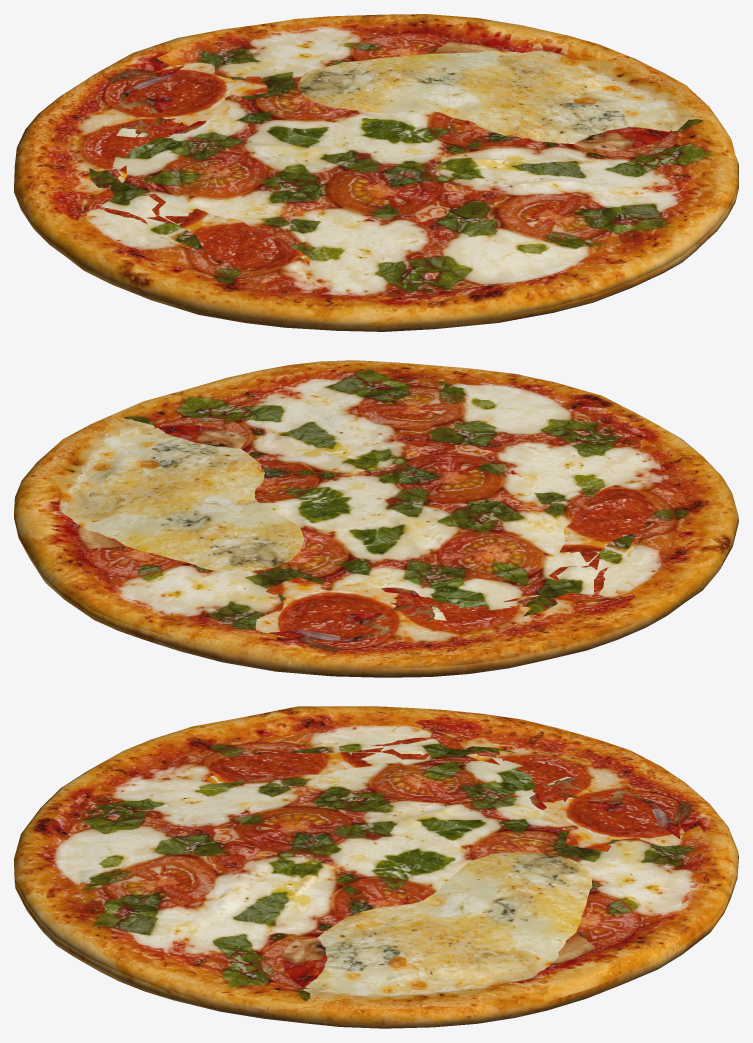
The model's file is AllPizzas.glb.
3 renders of one model, top to bottom at view 1: azimuth 30°, elevation 25°; view 2: azimuth 150°, elevation 25°; view 3: azimuth 270°, elevation 25°, orthographic.
Visible parts, largest first — view 1: PizzaMargarita.001, PizzaQueso.001, PizzaPeperoni, PizzaChampiñones.001; view 2: PizzaMargarita.001, PizzaQueso.001, PizzaPeperoni, PizzaChampiñones.001; view 3: PizzaMargarita.001, PizzaQueso.001, PizzaPeperoni, PizzaChampiñones.001.
Boxes of the visible parts, box(x1,y1,x2,y2) form: PizzaMargarita.001: box(14, 14, 738, 327); PizzaQueso.001: box(48, 50, 715, 324); PizzaPeperoni: box(14, 57, 738, 328); PizzaChampiñones.001: box(46, 18, 738, 331); PizzaMargarita.001: box(14, 360, 738, 674); PizzaQueso.001: box(14, 416, 732, 677); PizzaPeperoni: box(17, 426, 738, 668); PizzaChampiñones.001: box(30, 425, 732, 674); PizzaMargarita.001: box(14, 706, 733, 1028); PizzaQueso.001: box(15, 852, 685, 1025); PizzaPeperoni: box(22, 708, 717, 1024); PizzaChampiñones.001: box(40, 778, 738, 1025).
Bounding box in the file's own units: 23.58 × 1.57 × 23.35.
8 materials, 8 textured.
